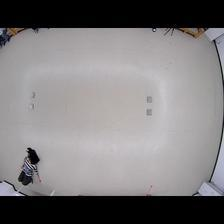fall: (16, 149, 45, 187)
